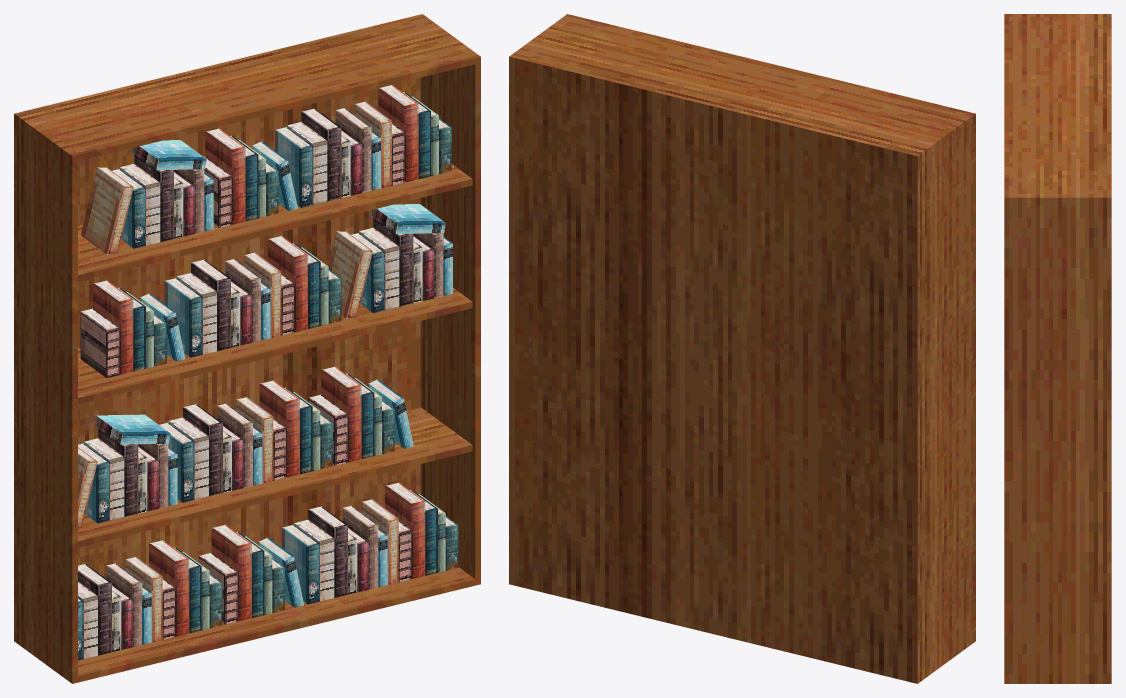
The model's file is fullBookshelfReal.glb.
3 views of the same model, side by side, from view 1: azimuth 30°, elevation 25°; view 2: azimuth 150°, elevation 25°; view 3: azimuth 270°, elevation 25° (orthographic). The views are drawn at different scales.
Parts seen in each view (by area): view 1: books_alt.002; view 2: books_alt.002; view 3: books_alt.002.
Part boxes in pixels (box(x1,y1,x2,y2)): books_alt.002: box(14, 14, 480, 683); books_alt.002: box(509, 14, 975, 683); books_alt.002: box(1004, 14, 1111, 683).
Size of the model in its own units: 2.03 by 2.5 by 0.5.
4 materials, 4 textured.
